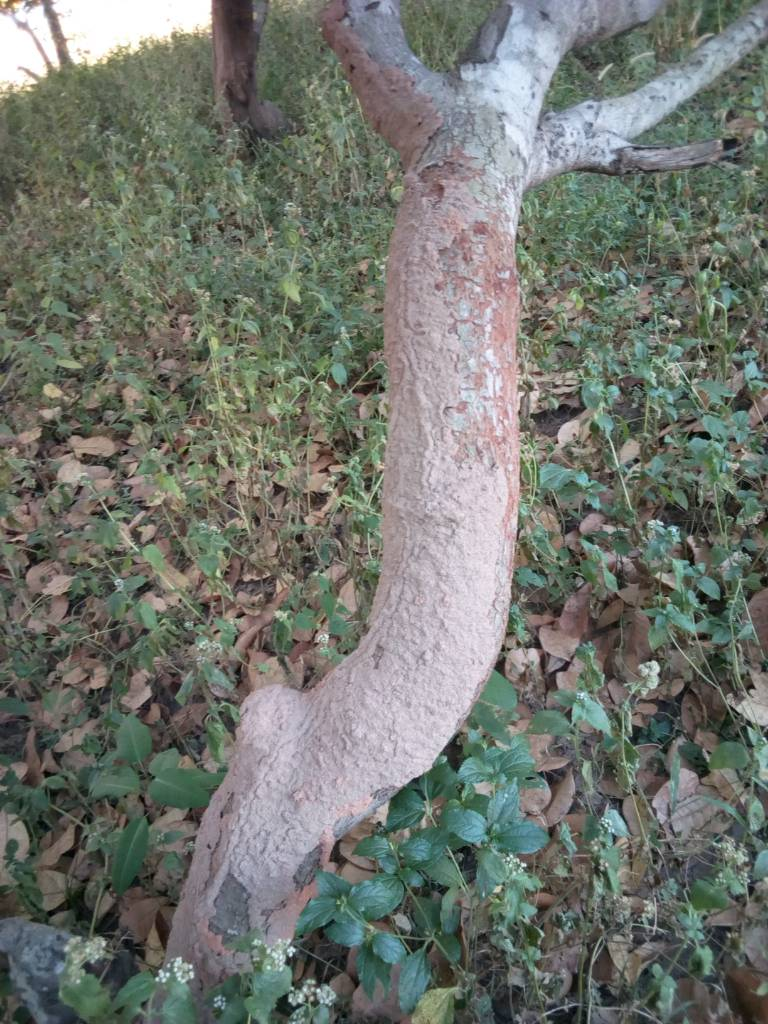Termites: (390, 178, 504, 688), (211, 696, 411, 852)
